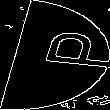P_W: (7, 33, 103, 77)
